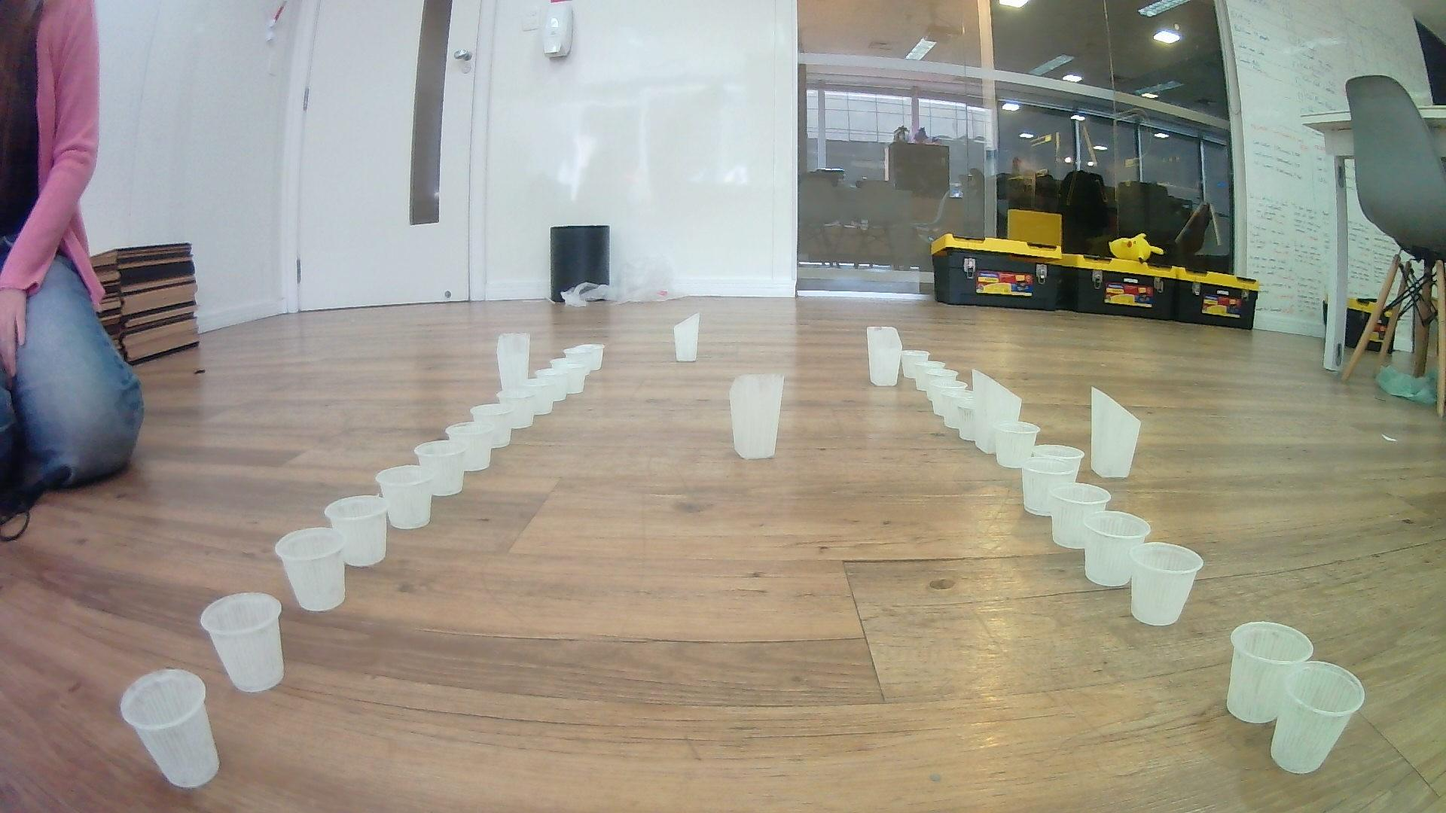erva_daninha: (1090, 385, 1142, 480), (729, 373, 785, 461), (972, 369, 1023, 455), (865, 326, 904, 387), (496, 332, 531, 392), (673, 311, 701, 363)
planta: (118, 667, 222, 789), (1270, 660, 1366, 775), (1225, 620, 1315, 725), (199, 591, 286, 694), (1127, 541, 1204, 627), (274, 526, 349, 614), (1081, 510, 1152, 588), (323, 495, 389, 568), (1048, 482, 1112, 550), (375, 464, 436, 530), (1021, 456, 1077, 516), (413, 440, 466, 498), (444, 421, 493, 473), (992, 420, 1041, 469), (1028, 443, 1085, 485), (469, 403, 513, 449), (496, 388, 535, 430), (957, 400, 994, 442), (929, 379, 969, 416), (943, 390, 979, 429), (517, 379, 554, 416), (551, 358, 587, 395), (563, 343, 605, 372), (535, 368, 569, 402), (926, 369, 959, 403), (912, 361, 945, 391), (902, 349, 929, 379)
